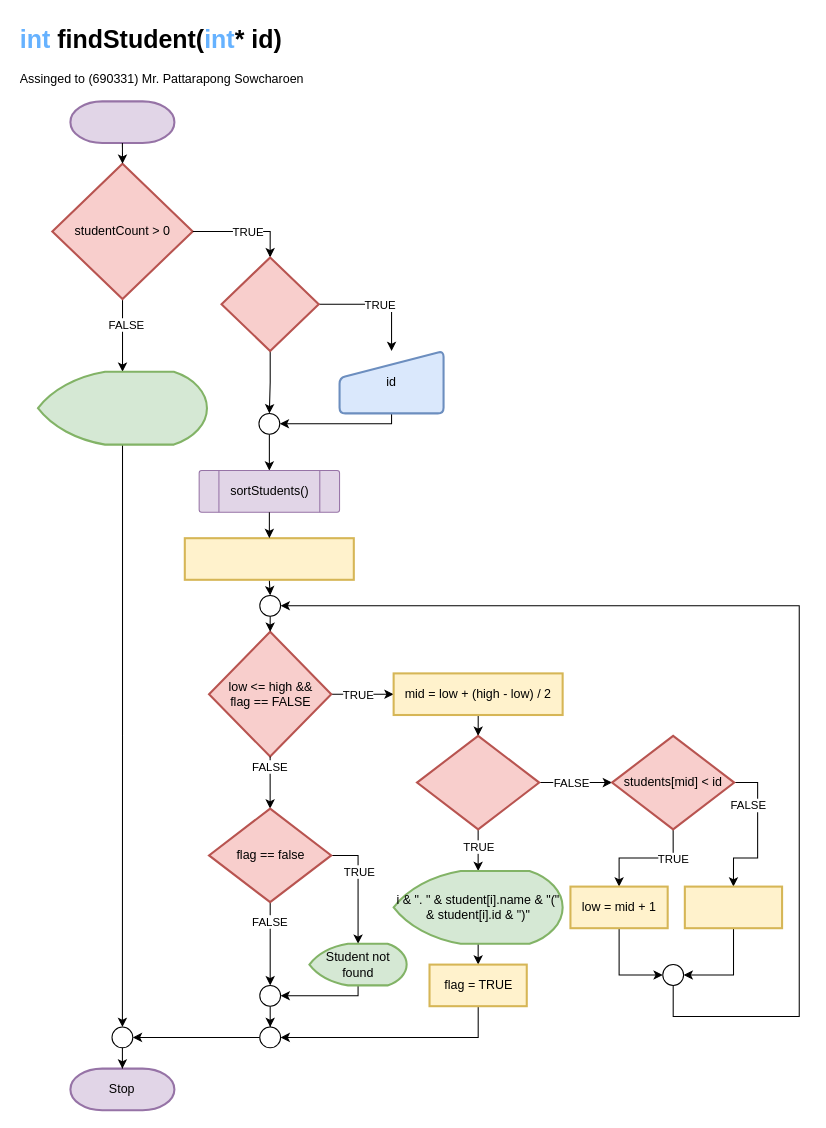
Some shapes in this 826 by 1128 pixel diagram are drawn without their labels. The shapes that lost their labels are listed below. From the top down, each one's box as (x1, y1, x2, y2) in pixels, then its label:
(69, 100, 175, 144): Start
(220, 256, 319, 352): id == NULL
(36, 370, 207, 445): There are no student in records
(183, 537, 354, 580): low = 0 high = studentCount - 1
(415, 734, 540, 830): students[mid] == id
(683, 885, 783, 929): high = mid - 1
